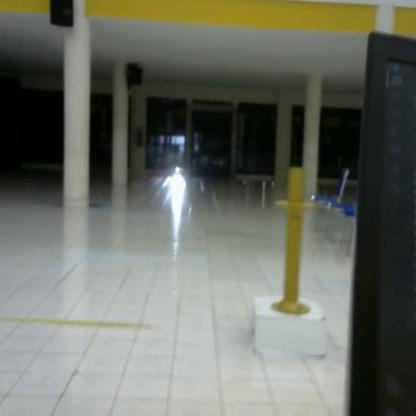pole: (271, 160, 319, 323)
